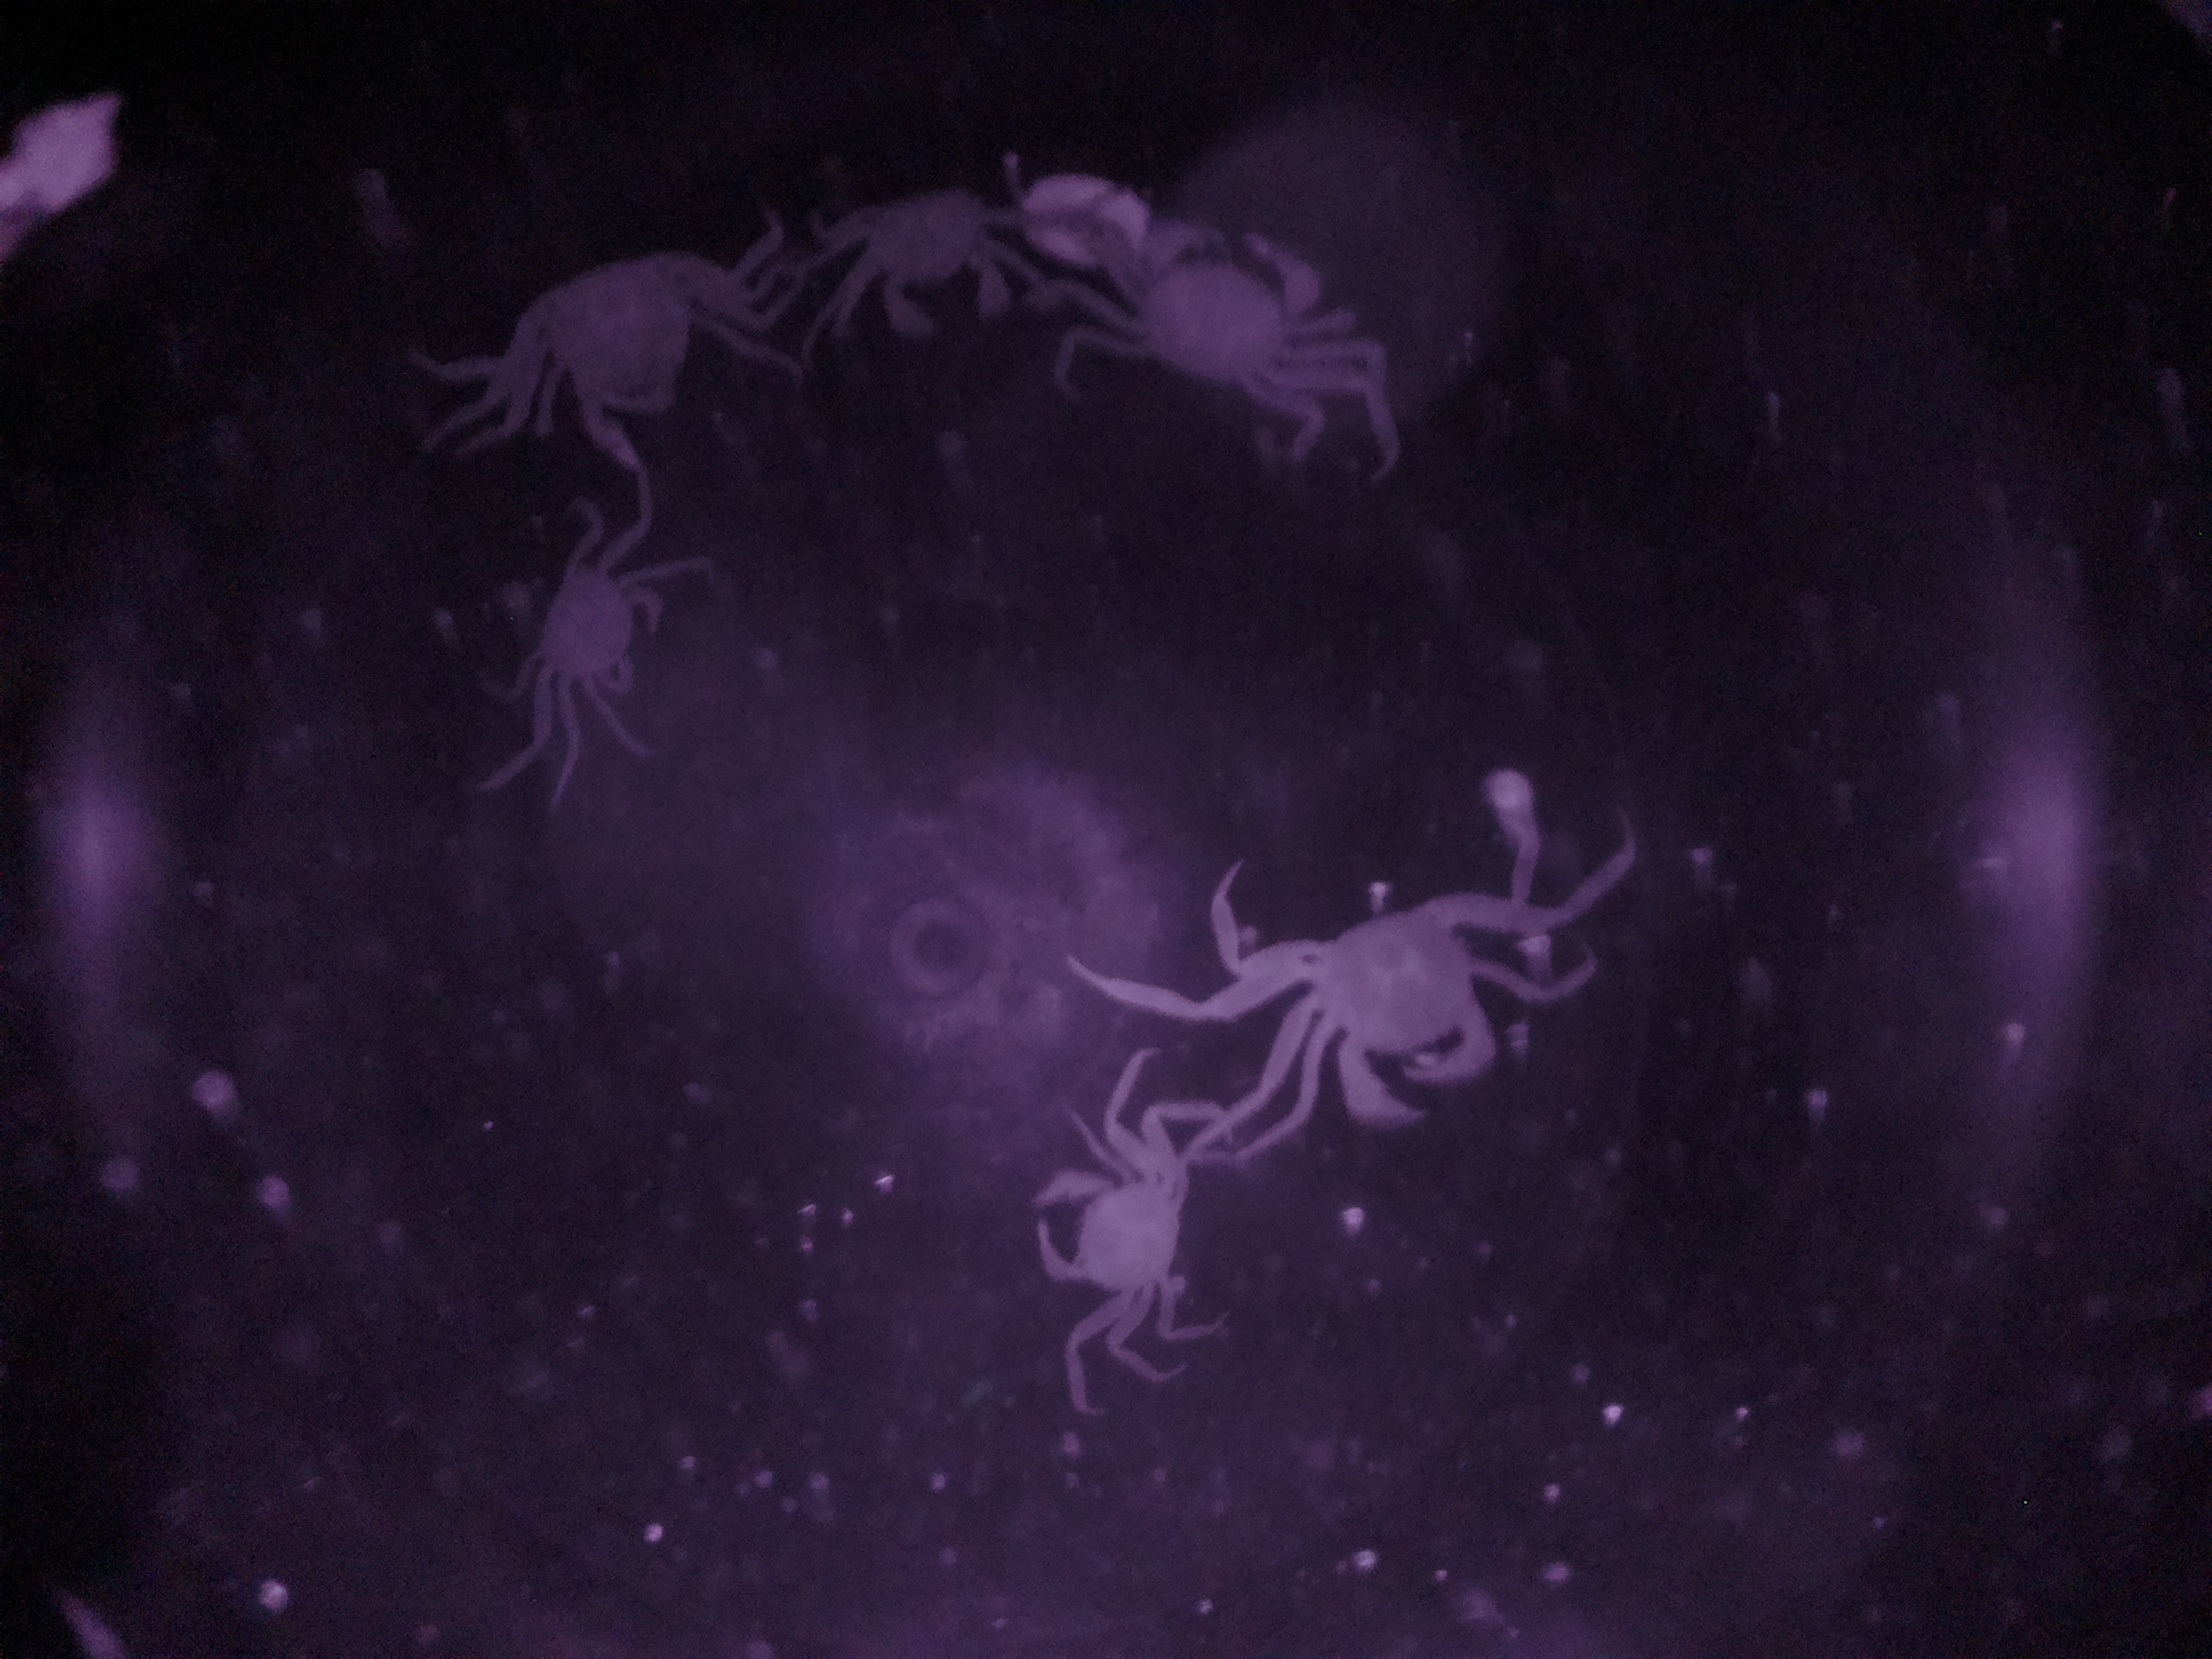Crab: (1226, 866, 1547, 1133), (1094, 186, 1332, 408), (1015, 1112, 1212, 1337), (822, 160, 1029, 361)
